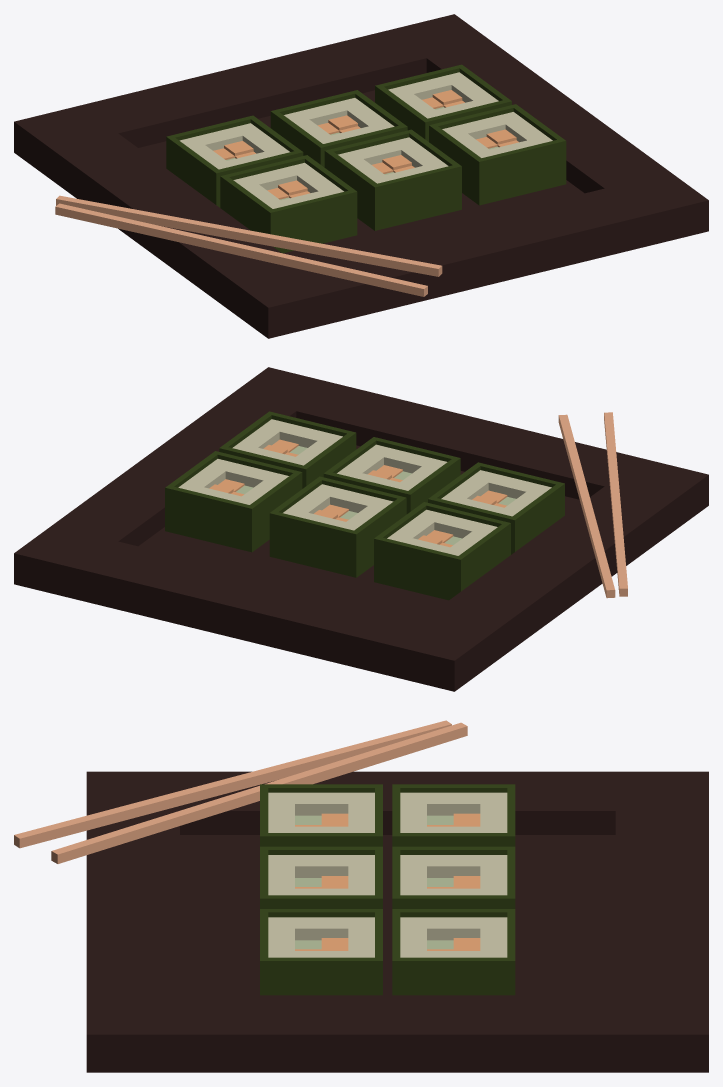
The model's file is sushi.glb.
3 views of the same model, one above another, from view 1: azimuth 30°, elevation 25°; view 2: azimuth 150°, elevation 25°; view 3: azimuth 270°, elevation 25° (orthographic). The views are drawn at different scales.
Visible parts, largest first — view 1: Plane, Sushi, Chopstick, Chopstick.001; view 2: Plane, Sushi, Chopstick.001, Chopstick; view 3: Plane, Sushi, Chopstick.001, Chopstick.
Part boxes in pixels (bbox=[...]): Plane: bbox=[14, 14, 708, 338]; Sushi: bbox=[166, 64, 566, 253]; Chopstick: bbox=[55, 203, 427, 296]; Chopstick.001: bbox=[56, 195, 442, 276]; Plane: bbox=[14, 367, 708, 691]; Sushi: bbox=[165, 411, 564, 600]; Chopstick.001: bbox=[558, 414, 615, 598]; Chopstick: bbox=[604, 412, 627, 596]; Plane: bbox=[86, 771, 708, 1072]; Sushi: bbox=[260, 784, 515, 995]; Chopstick.001: bbox=[51, 722, 467, 863]; Chopstick: bbox=[14, 720, 451, 848].
Size of what is drawn, in the model's own units: 9.2 by 0.9752 by 8.94.
